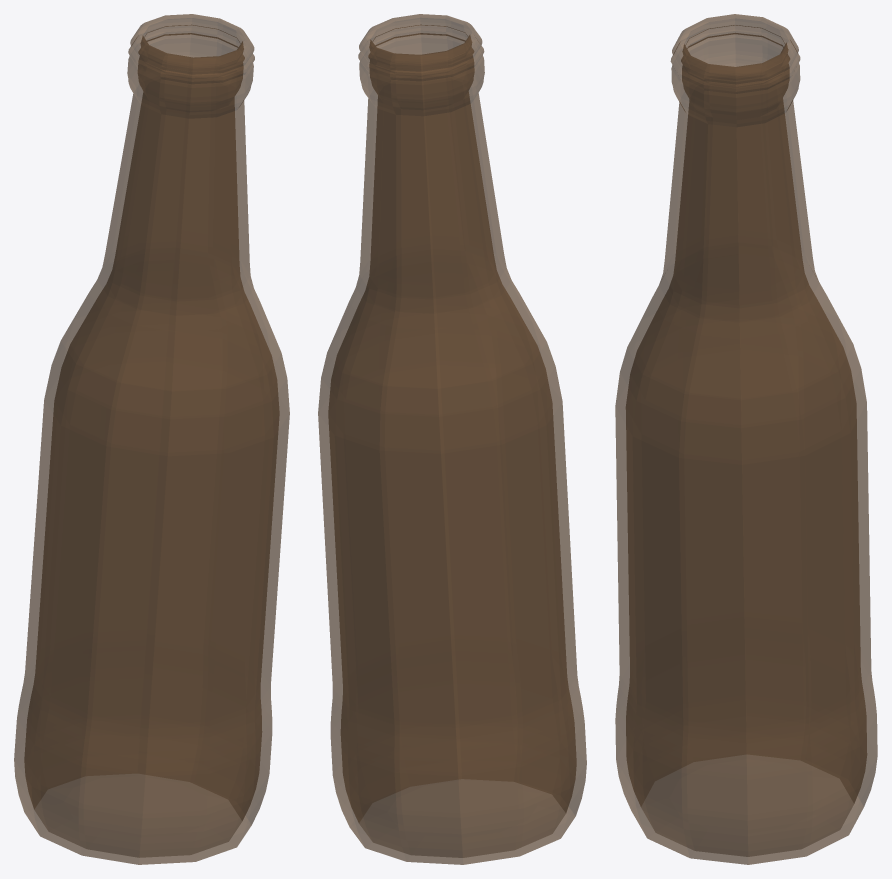
Rendered from pivo.fbx.
The picture shows the model from 3 angles, left to right: view 1: azimuth 30°, elevation 25°; view 2: azimuth 150°, elevation 25°; view 3: azimuth 270°, elevation 25°; orthographic projection. The views are drawn at different scales.
Visible parts, largest first — view 1: Окружность.027; view 2: Окружность.027; view 3: Окружность.027.
Part boxes in pixels (box(x1,y1,x2,y2)): Окружность.027: box(14, 14, 289, 864); Окружность.027: box(318, 14, 586, 864); Окружность.027: box(615, 14, 877, 864).
Bounding box in the file's own units: 118 × 370 × 110.
